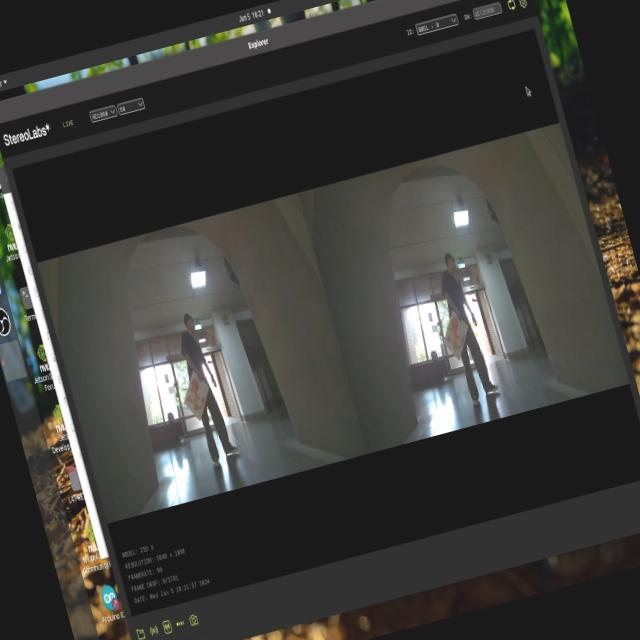red: (439, 308, 472, 360), (183, 376, 212, 422)
